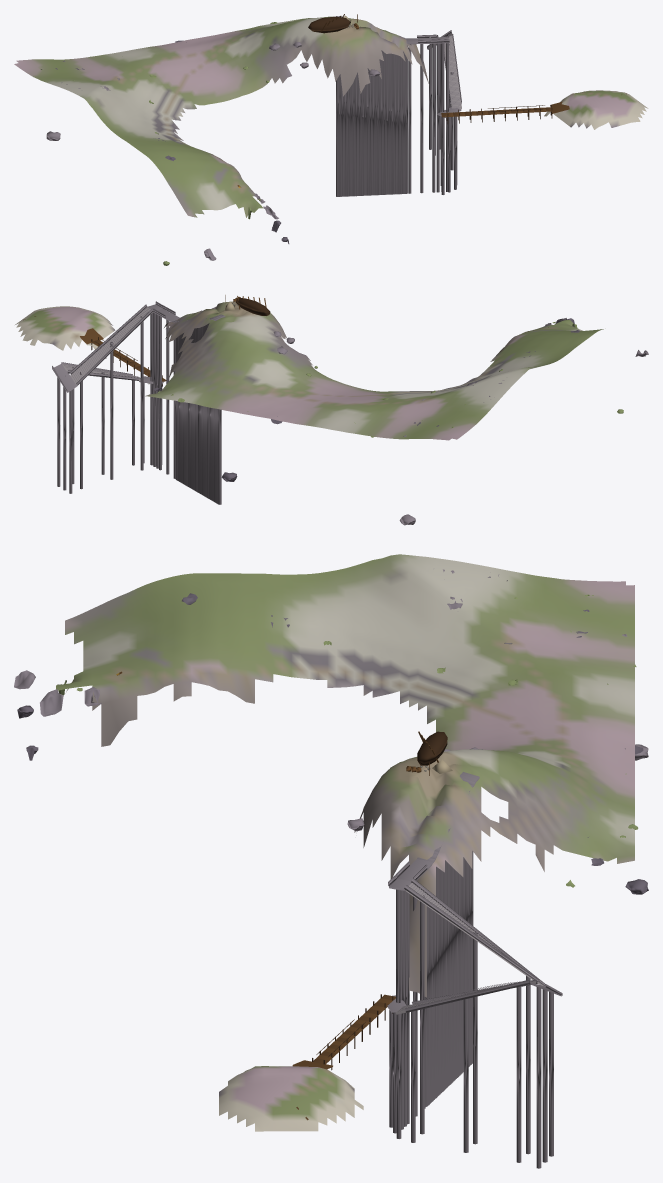
File: coast_isl_beached_wreck.glb
3 views of the same model, one above another, from view 1: azimuth 30°, elevation 25°; view 2: azimuth 150°, elevation 25°; view 3: azimuth 270°, elevation 25° (orthographic). The views are drawn at different scales.
Visible parts, largest first — view 1: coast_isl_beached_wreck; view 2: coast_isl_beached_wreck; view 3: coast_isl_beached_wreck.
Boxes of the visible parts, x1,y1,x2,y2 form: coast_isl_beached_wreck: (14, 14, 648, 265); coast_isl_beached_wreck: (15, 295, 648, 525); coast_isl_beached_wreck: (14, 554, 648, 1168).
Size of the model in its own units: 216 by 75.66 by 140.
